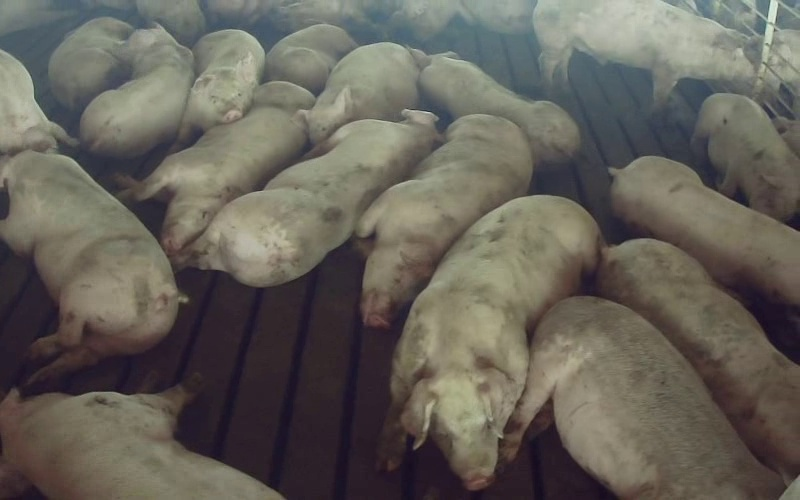pig: (378, 196, 598, 489), (501, 296, 781, 499), (597, 239, 799, 480), (187, 110, 437, 286), (0, 150, 177, 384), (355, 114, 532, 327), (118, 81, 314, 256), (533, 0, 754, 109), (411, 49, 579, 165), (80, 25, 193, 158), (691, 93, 799, 221), (306, 42, 418, 144), (178, 30, 264, 144), (48, 17, 133, 111), (264, 24, 356, 94)
